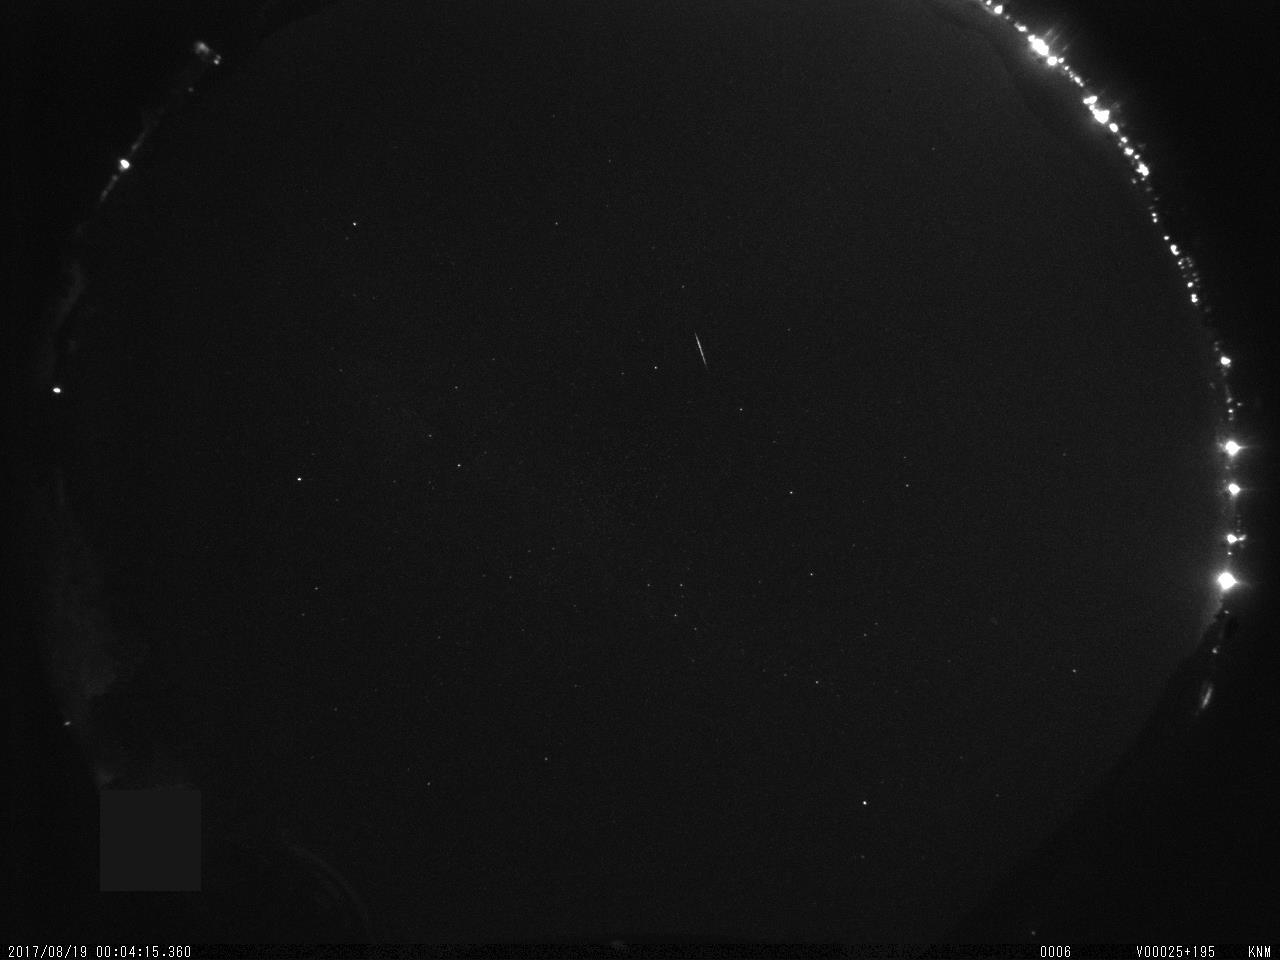meteor: (672, 319, 725, 382)
